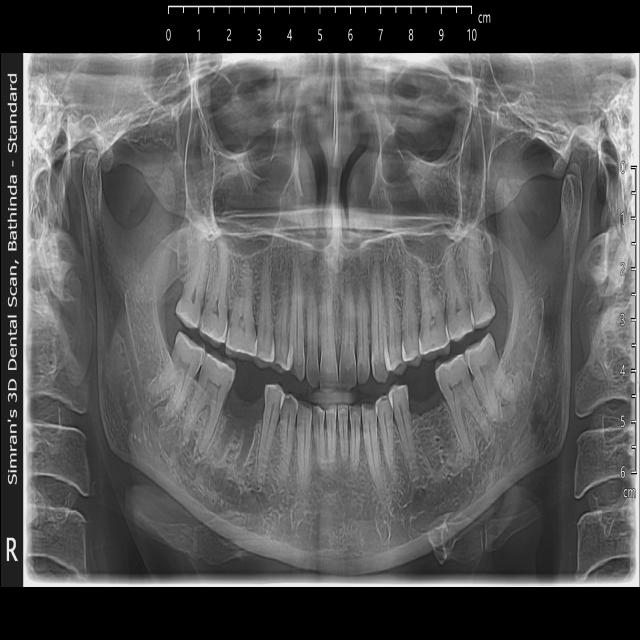Missing teeth: (216, 387, 264, 481), (415, 389, 455, 461)
